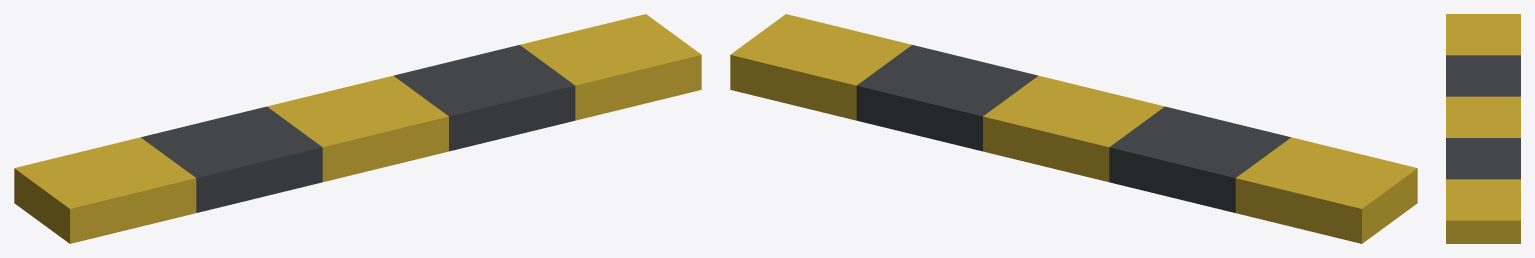
Rendered from speed_bump.glb.
The picture shows the model from 3 angles, left to right: view 1: azimuth 30°, elevation 25°; view 2: azimuth 150°, elevation 25°; view 3: azimuth 270°, elevation 25°; orthographic projection. The views are drawn at different scales.
Parts seen in each view (by area): view 1: speed_bump; view 2: speed_bump; view 3: speed_bump.
Part boxes in pixels (left/top/right/bottom): speed_bump: left=14, top=14, right=701, bottom=243; speed_bump: left=730, top=14, right=1417, bottom=243; speed_bump: left=1446, top=14, right=1520, bottom=243.
Size of the model in its own units: 1.7 by 0.09 by 0.26.
